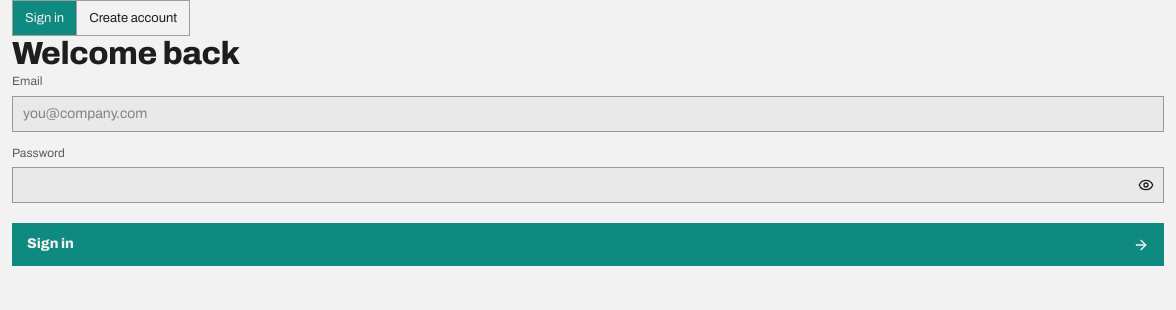
Test: login submit › 429 → form-level message
Step 1. Type "mara@taskmaster.app" into the field labelled "Email" → point(588, 114), box [12,96,1164,132]
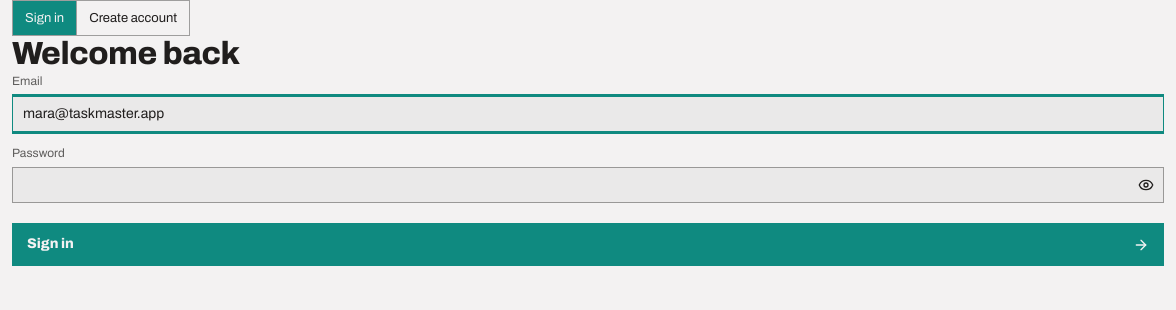
Step 2. Type "correct horse" into the password field labelled "Password" → point(588, 185), box [12,167,1164,203]
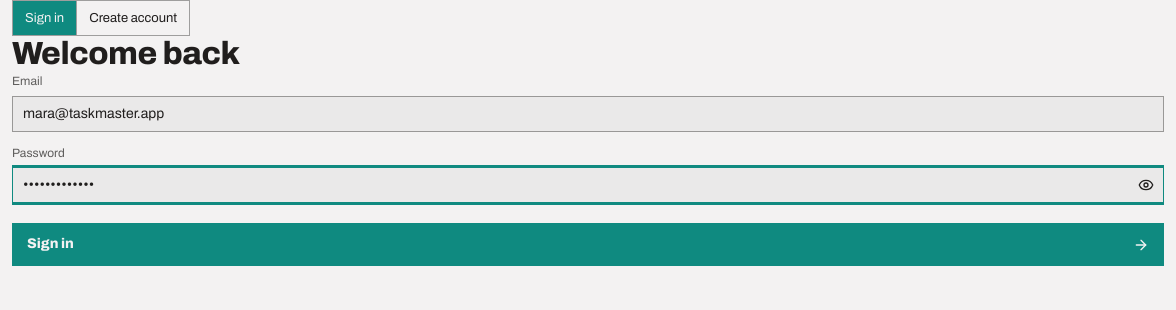
Step 3. Click the button "Sign in" → point(50, 244), box [12,223,1164,266]
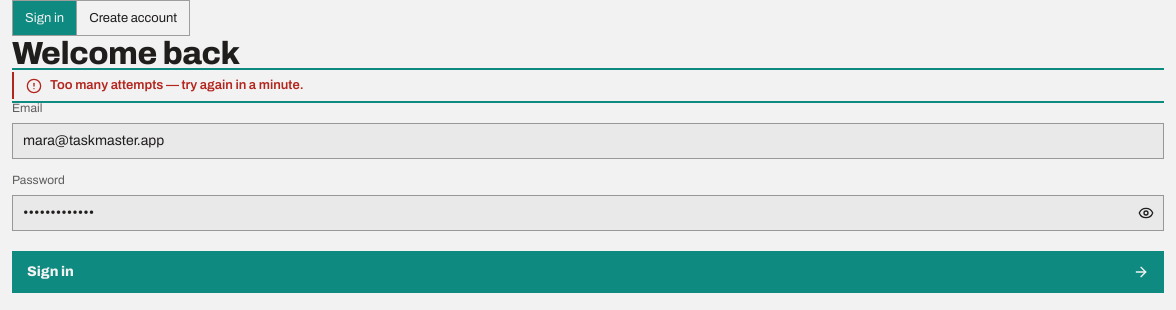
expect the message reads "Too many attempts — try again in a minute.": met, box [50,78,304,92]
